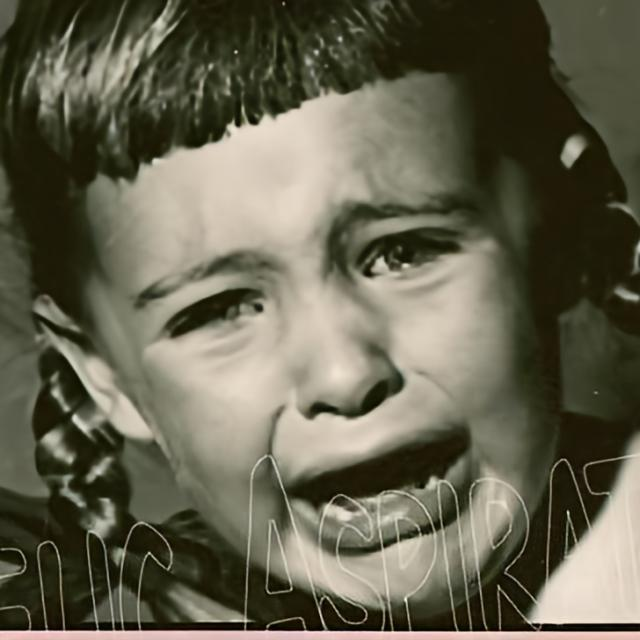sad: (80, 66, 558, 622)
